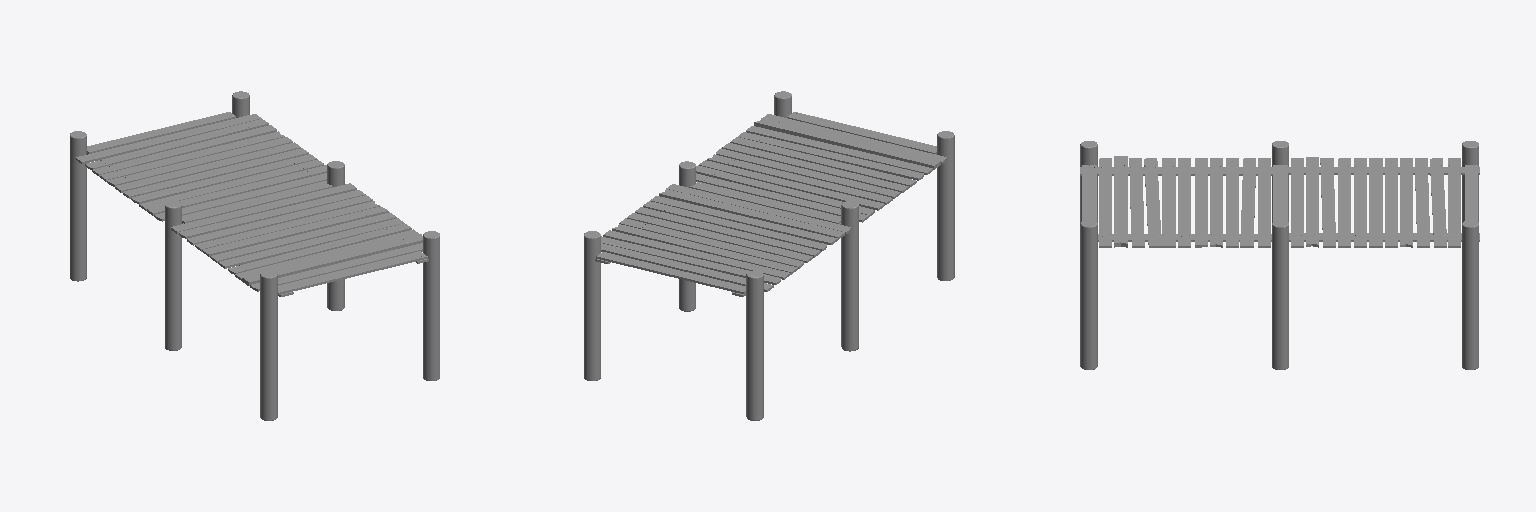
File: Bridge_Dock_blend.obj
3 renders of one model, left to right at view 1: azimuth 30°, elevation 25°; view 2: azimuth 150°, elevation 25°; view 3: azimuth 270°, elevation 25°, orthographic.
Parts seen in each view (by area): view 1: Cylinder.008_Cylinder, Cylinder.009_Cylinder, Cylinder.006_Cylinder, Cylinder.001_Cylinder, Cube.013_Cube.001, Cube.007_Cube.005, Cube.015_Cube.003, Cube.021_Cube.002, Cube.009_Cube.002, Cube.003, Cube.010_Cube.003, Cube.004 (+18 smaller); view 2: Cylinder.006_Cylinder, Cylinder.008_Cylinder, Cylinder.001_Cylinder, Cylinder.007_Cylinder, Cube.013_Cube.001, Cube.001, Cube.002, Cube.014_Cube.002, Cube.016_Cube.004, Cube.008_Cube.001, Cube.021_Cube.002, Cube.022_Cube.001 (+18 smaller); view 3: Cylinder.009_Cylinder, Cylinder.007_Cylinder, Cylinder, Cube.013_Cube.001, Cube.017_Cube.004, Cube.016_Cube.004, Cube.015_Cube.003, Cube.014_Cube.002, Cube.002, Cube.010_Cube.003, Cube.020_Cube.003, Cube.021_Cube.002 (+18 smaller).
Part boxes in pixels (left/top/right/bottom): Cylinder.008_Cylinder: left=260, top=271, right=277, bottom=420; Cylinder.009_Cylinder: left=423, top=231, right=439, bottom=380; Cylinder.006_Cylinder: left=70, top=131, right=86, bottom=281; Cylinder.001_Cylinder: left=165, top=201, right=181, bottom=350; Cube.013_Cube.001: left=242, top=234, right=422, bottom=285; Cube.007_Cube.005: left=202, top=206, right=388, bottom=256; Cube.015_Cube.003: left=228, top=223, right=411, bottom=274; Cube.021_Cube.002: left=92, top=125, right=276, bottom=176; Cube.009_Cube.002: left=187, top=195, right=372, bottom=245; Cube.003: left=131, top=154, right=316, bottom=203; Cube.010_Cube.003: left=179, top=190, right=365, bottom=238; Cube.004: left=123, top=148, right=308, bottom=198; Cylinder.006_Cylinder: left=746, top=271, right=763, bottom=420; Cylinder.008_Cylinder: left=937, top=131, right=954, bottom=280; Cylinder.001_Cylinder: left=841, top=201, right=858, bottom=351; Cylinder.007_Cylinder: left=584, top=231, right=600, bottom=380; Cube.013_Cube.001: left=754, top=118, right=940, bottom=169; Cube.001: left=659, top=189, right=844, bottom=239; Cube.002: left=650, top=196, right=837, bottom=244; Cube.014_Cube.002: left=746, top=126, right=932, bottom=174; Cube.016_Cube.004: left=730, top=137, right=916, bottom=187; Cube.008_Cube.001: left=707, top=154, right=892, bottom=204; Cube.021_Cube.002: left=603, top=230, right=790, bottom=279; Cube.022_Cube.001: left=612, top=224, right=797, bottom=274; Cylinder.009_Cylinder: left=1080, top=220, right=1097, bottom=369; Cylinder.007_Cylinder: left=1462, top=220, right=1478, bottom=369; Cylinder: left=1272, top=220, right=1288, bottom=369; Cube.013_Cube.001: left=1114, top=156, right=1127, bottom=247; Cube.017_Cube.004: left=1369, top=158, right=1382, bottom=247; Cube.016_Cube.004: left=1162, top=158, right=1175, bottom=247; Cube.015_Cube.003: left=1144, top=158, right=1161, bottom=247; Cube.014_Cube.002: left=1129, top=158, right=1144, bottom=247; Cube.002: left=1320, top=158, right=1335, bottom=247; Cube.010_Cube.003: left=1240, top=158, right=1255, bottom=247; Cube.020_Cube.003: left=1430, top=158, right=1446, bottom=247; Cube.021_Cube.002: left=1415, top=158, right=1429, bottom=247.
Bounding box in the file's own units: 9.06 × 6.91 × 17.41.